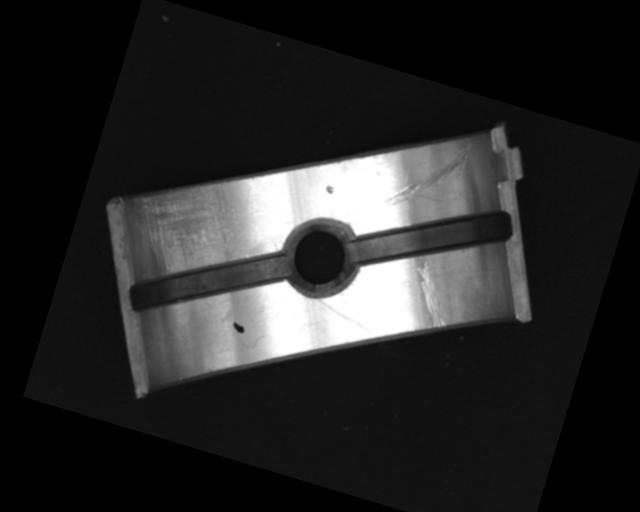blot: (230, 321, 247, 334)
bruise: (324, 184, 335, 195)
gap: (122, 217, 292, 350), (347, 173, 519, 303)
hole: (273, 211, 367, 307)
nick: (382, 122, 473, 223), (400, 255, 463, 331), (311, 298, 387, 338)
scratch: (115, 150, 251, 286)
